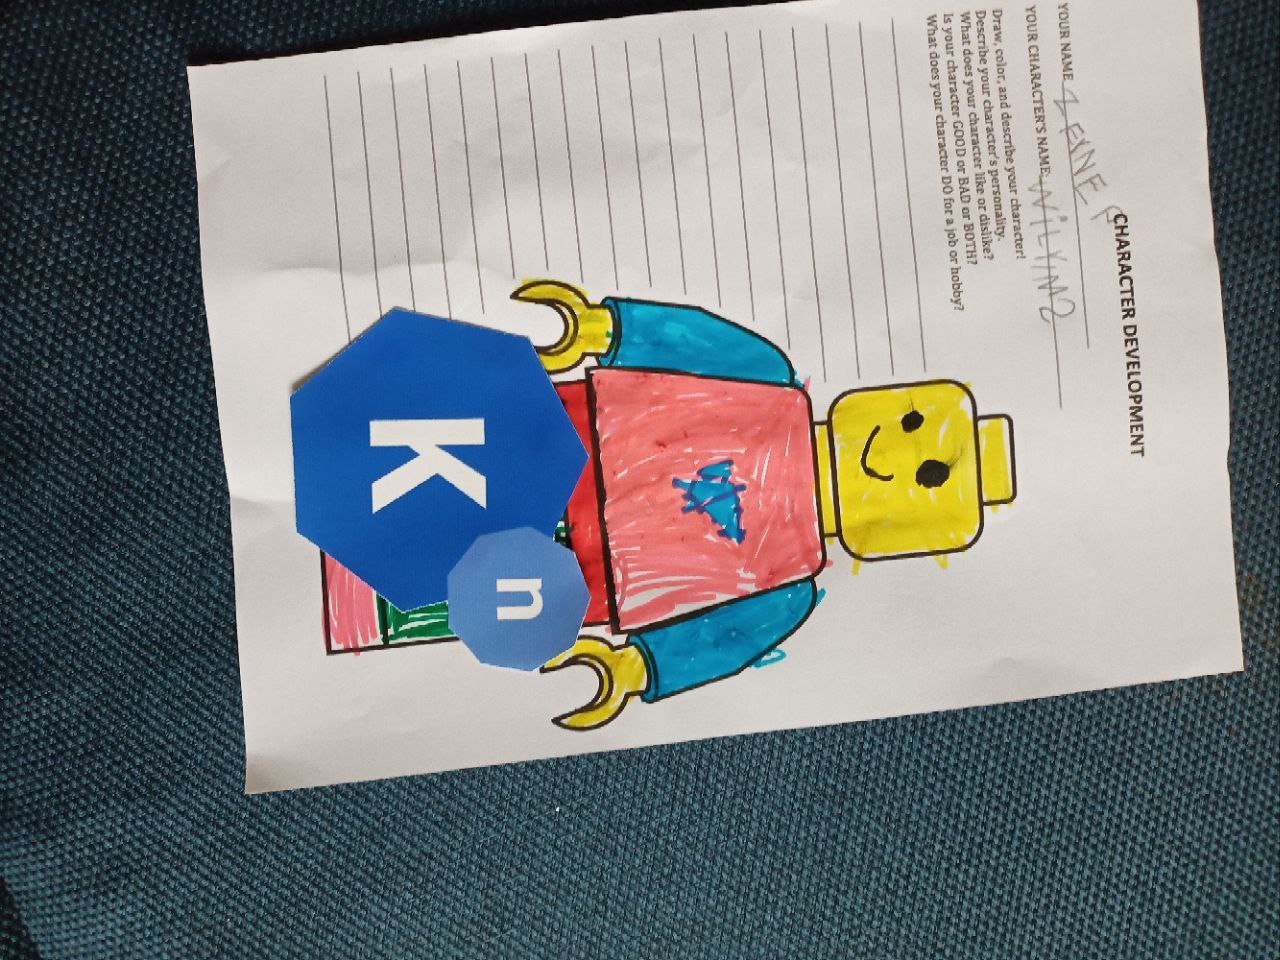knative: (289, 307, 591, 675)
